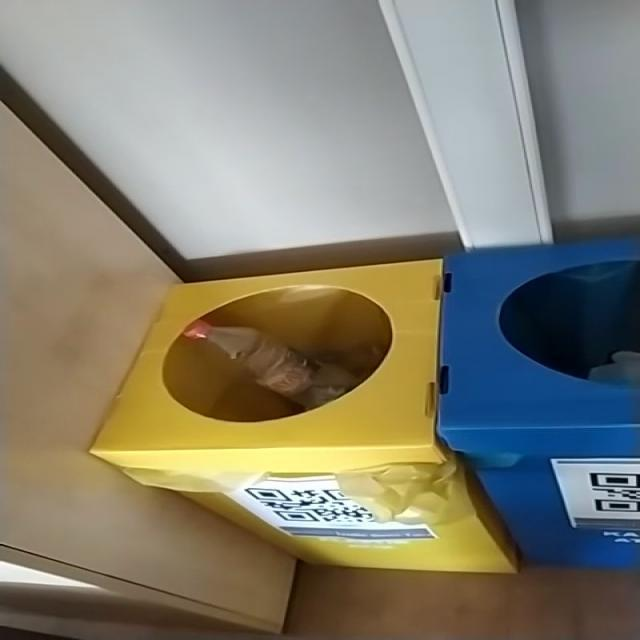Plastic: (183, 321, 359, 409)
